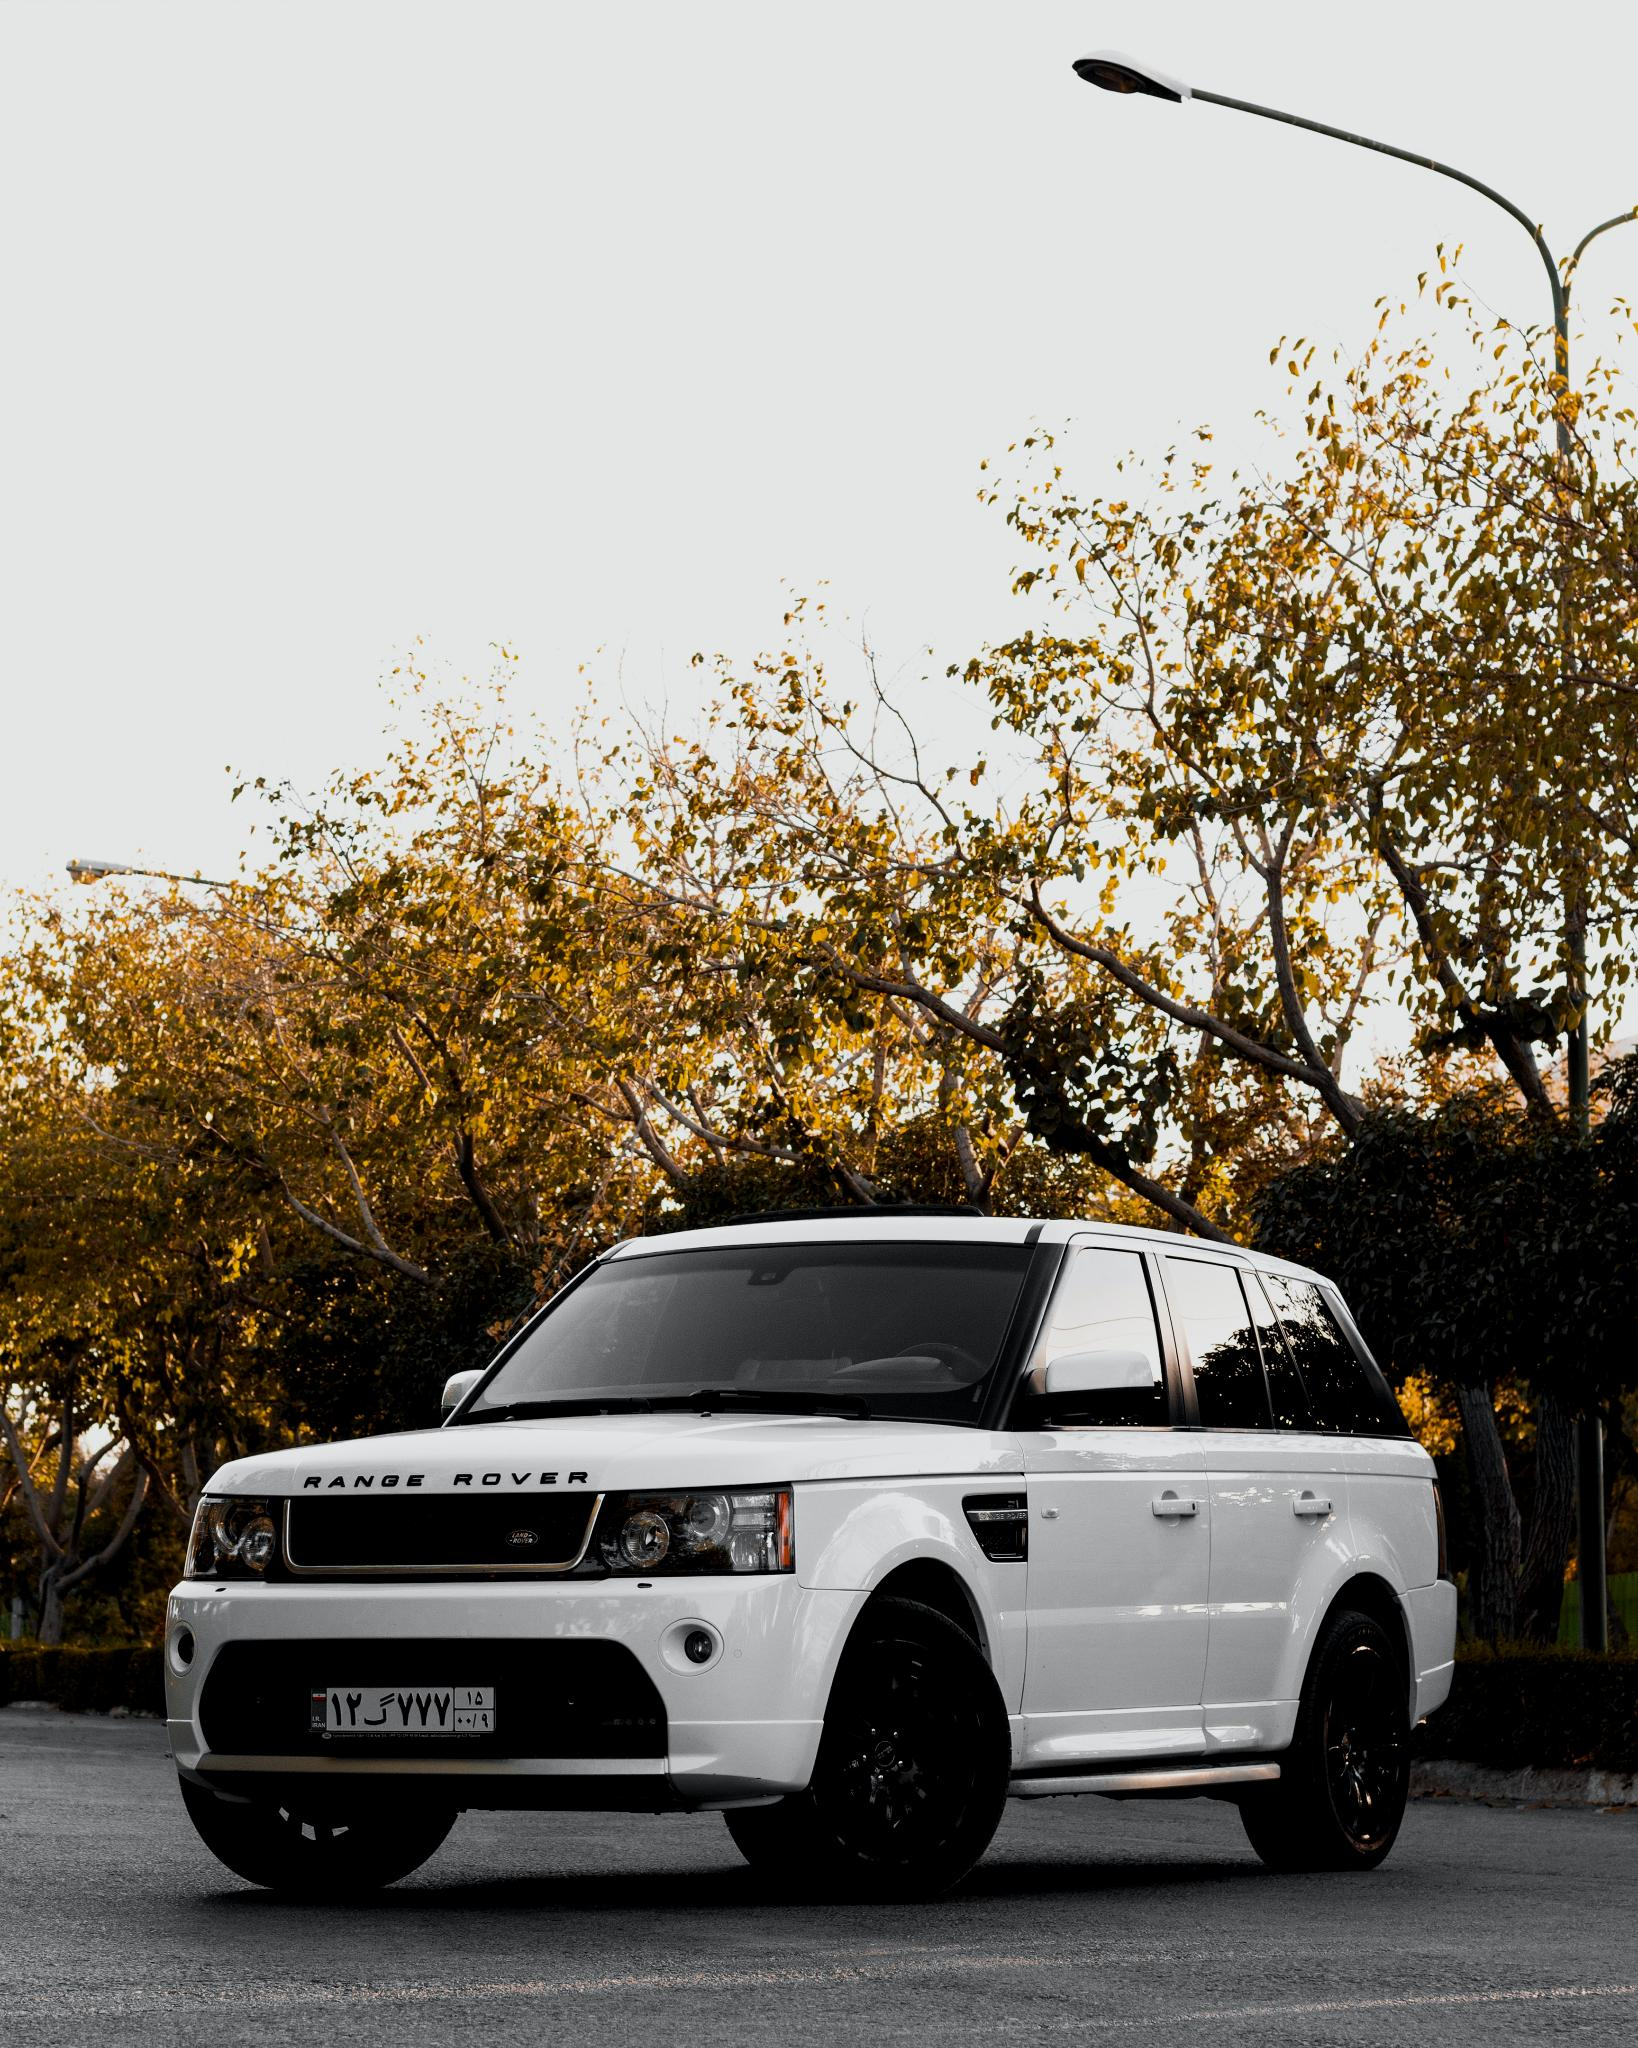range rover: (289, 1451, 612, 1515)
